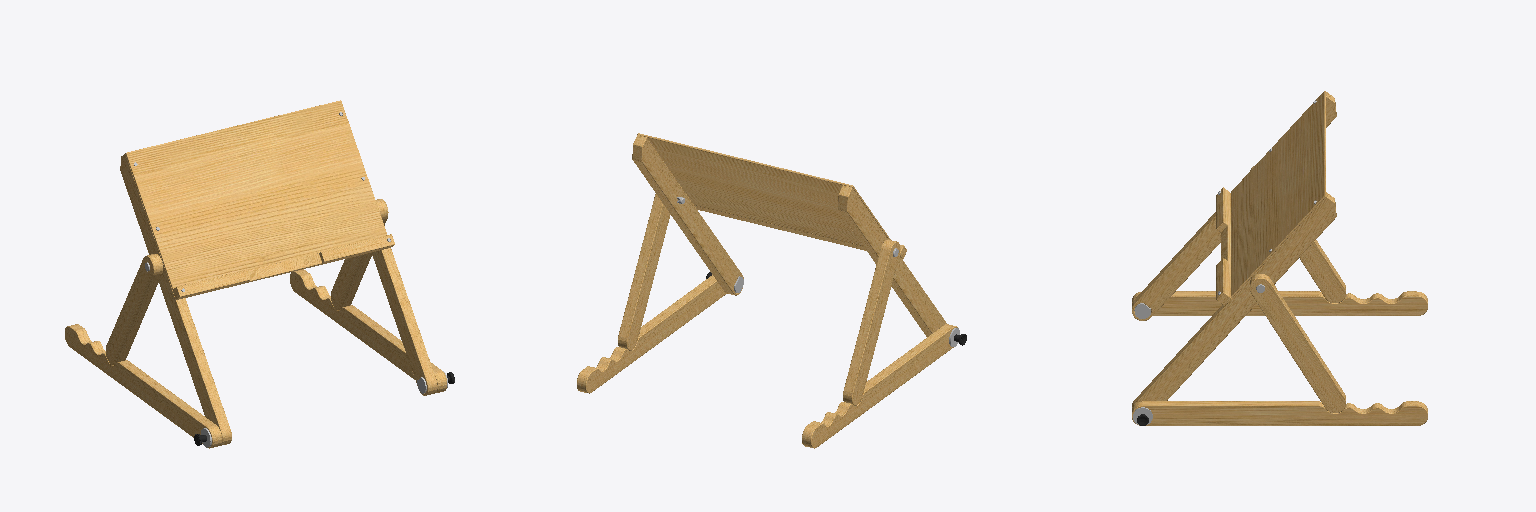
3 renders of one model, left to right at view 1: azimuth 30°, elevation 25°; view 2: azimuth 150°, elevation 25°; view 3: azimuth 270°, elevation 25°, orthographic.
Parts seen in each view (by area): view 1: Tasiyici_plaka, Tasiyici_kol, Solid1(6).1, Solid1(6), Tasiyici_kol-sag, Tasiyici_ana_lama, Solid1(12), Solid1(12).1; view 2: Tasiyici_plaka, Tasiyici_kol-sag, Solid1(6).1, Solid1(6), Tasiyici_kol, Solid1(12), Solid1(12).1, Tasiyici_ana_lama; view 3: Tasiyici_plaka, Solid1(6), Tasiyici_kol-sag, Solid1(6).1, Solid1(12).1, Tasiyici_kol, Tasiyici_ana_lama, Solid1(12).
Part boxes in pixels (x1,y1,x2,y2): Tasiyici_plaka: (125, 100, 386, 289); Tasiyici_kol: (120, 154, 231, 445); Solid1(6).1: (65, 324, 221, 448); Solid1(6): (290, 269, 446, 392); Tasiyici_kol-sag: (372, 248, 437, 395); Tasiyici_ana_lama: (173, 234, 394, 299); Solid1(12): (106, 254, 162, 364); Solid1(12).1: (331, 199, 388, 309); Tasiyici_plaka: (637, 133, 890, 245); Tasiyici_kol-sag: (632, 135, 743, 295); Solid1(6).1: (802, 324, 957, 448); Solid1(6): (577, 275, 726, 393); Tasiyici_kol: (838, 185, 946, 336); Solid1(12): (843, 240, 899, 405); Solid1(12).1: (618, 194, 670, 350); Tasiyici_ana_lama: (694, 205, 906, 258); Tasiyici_plaka: (1231, 91, 1325, 297); Solid1(6): (1132, 401, 1427, 425); Tasiyici_kol-sag: (1132, 192, 1336, 407); Solid1(6).1: (1132, 291, 1427, 315); Solid1(12).1: (1250, 274, 1345, 412); Tasiyici_kol: (1132, 92, 1336, 320); Tasiyici_ana_lama: (1216, 187, 1231, 305); Solid1(12): (1250, 166, 1345, 302).
Size of the model in its own units: 52.16 by 44.15 by 52.5.
4 materials, 2 textured.